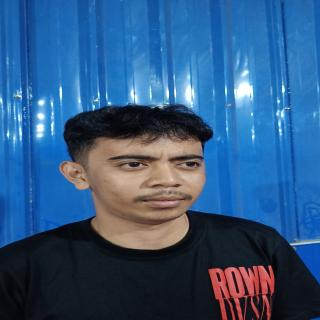Marah: (92, 126, 215, 227)
